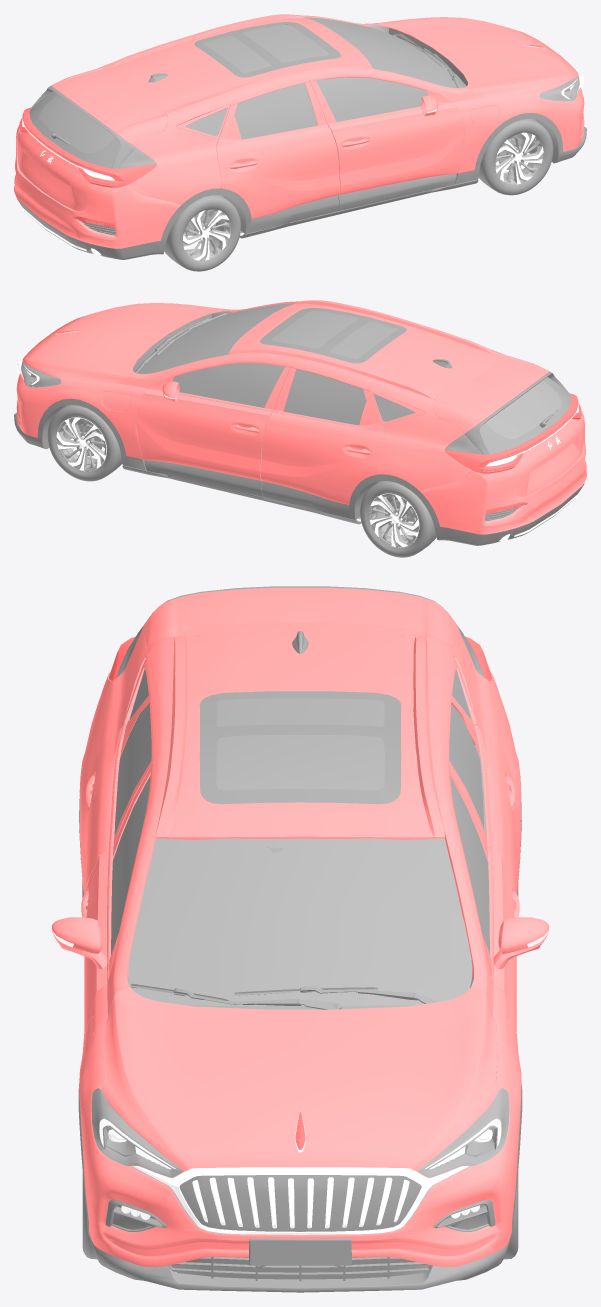
Rendered from Hongqi_red.glb.
3 renders of one model, top to bottom at view 1: azimuth 30°, elevation 25°; view 2: azimuth 150°, elevation 25°; view 3: azimuth 270°, elevation 25°, orthographic. The views are drawn at different scales.
Parts seen in each view (by area): view 1: Hongqi_1, Hongqi_2, Hongqi_6, Object002, Object007, Hongqi_wheelFR, Hongqi_wheelBR, Hongqi_brakeLightsOFF, Hongqi_11; view 2: Hongqi_1, Hongqi_2, Hongqi_6, Object006, Object008, Hongqi_wheelBL, Hongqi_wheelFL, Hongqi_brakeLightsOFF, Hongqi_11; view 3: Hongqi_1, Hongqi_2, Hongqi_6, Hongqi_11, Hongqi_7.
Part boxes in pixels (<box>): Hongqi_1: <box>14,14,584,248</box>; Hongqi_2: <box>39,17,462,153</box>; Hongqi_6: <box>16,22,586,259</box>; Object002: <box>164,195,240,271</box>; Object007: <box>478,119,553,195</box>; Hongqi_wheelFR: <box>495,132,543,184</box>; Hongqi_wheelBR: <box>183,209,230,260</box>; Hongqi_brakeLightsOFF: <box>19,107,156,187</box>; Hongqi_11: <box>21,40,583,251</box>; Hongqi_1: <box>16,300,586,534</box>; Hongqi_2: <box>138,303,561,438</box>; Hongqi_6: <box>14,308,584,545</box>; Object006: <box>360,481,436,557</box>; Object008: <box>47,404,122,481</box>; Hongqi_wheelBL: <box>369,493,419,547</box>; Hongqi_wheelFL: <box>56,417,106,471</box>; Hongqi_brakeLightsOFF: <box>444,393,581,473</box>; Hongqi_11: <box>16,323,579,536</box>; Hongqi_1: <box>52,587,548,1267</box>; Hongqi_2: <box>111,669,489,1005</box>; Hongqi_6: <box>78,586,522,1292</box>; Hongqi_11: <box>53,931,547,1234</box>; Hongqi_7: <box>99,1118,501,1219</box>.
Bounding box in the file's own units: 5.09 × 1.49 × 2.1.
